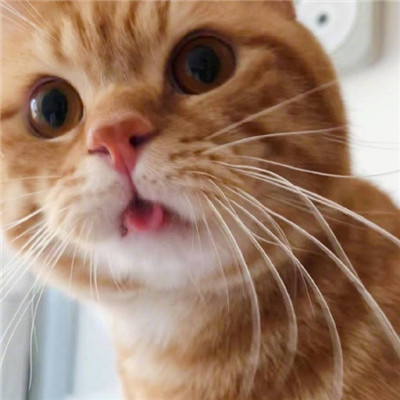cat: (4, 8, 342, 313)
